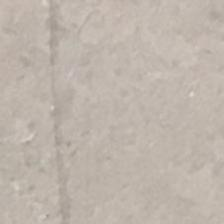Non_Crack: (17, 17, 194, 196)
